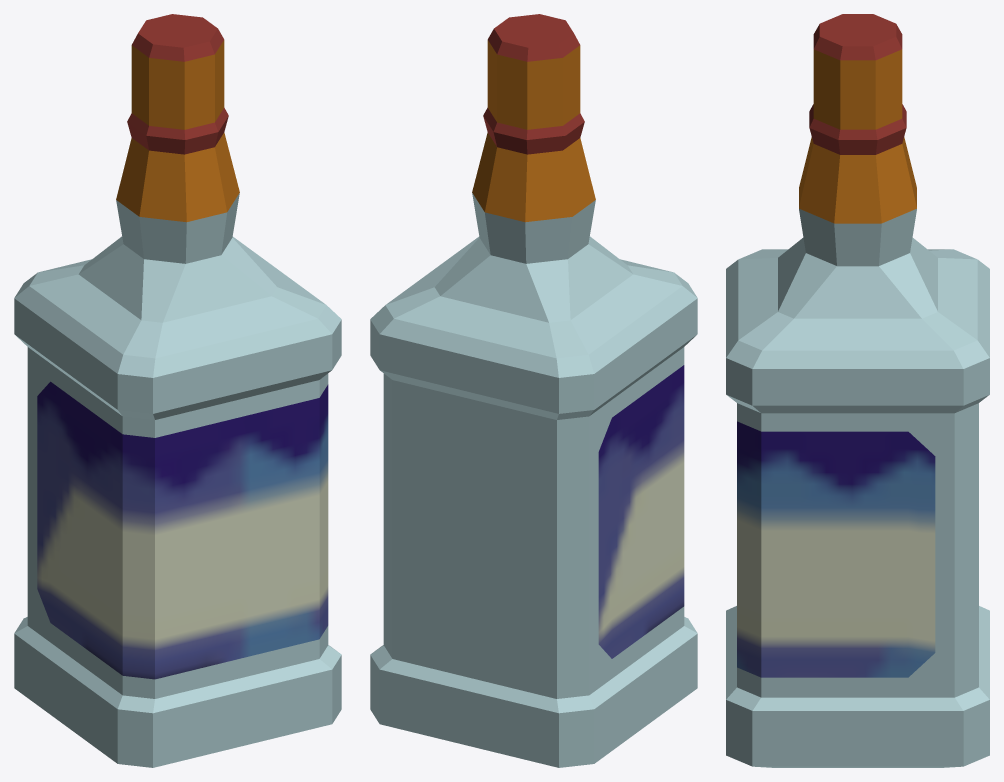
Rendered from SM_Prop_Bottle_Large_05_GLASS.obj.
3 views of the same model, side by side, from view 1: azimuth 30°, elevation 25°; view 2: azimuth 150°, elevation 25°; view 3: azimuth 270°, elevation 25° (orthographic).
Parts seen in each view (by area): view 1: SM_Prop_Bottle_Large_05_GLASS_1, SM_Prop_Bottle_Large_05_GLASS_0; view 2: SM_Prop_Bottle_Large_05_GLASS_0, SM_Prop_Bottle_Large_05_GLASS_1; view 3: SM_Prop_Bottle_Large_05_GLASS_0, SM_Prop_Bottle_Large_05_GLASS_1.
Part boxes in pixels (x1,y1,x2,y2): SM_Prop_Bottle_Large_05_GLASS_1: (37,14,328,679); SM_Prop_Bottle_Large_05_GLASS_0: (14,192,341,767); SM_Prop_Bottle_Large_05_GLASS_0: (370,192,697,767); SM_Prop_Bottle_Large_05_GLASS_1: (472,14,684,658); SM_Prop_Bottle_Large_05_GLASS_0: (726,209,989,767); SM_Prop_Bottle_Large_05_GLASS_1: (737,14,935,677).
Bounding box in the file's own units: 0.1475 × 0.4281 × 0.1475.
2 materials, 1 textured.
